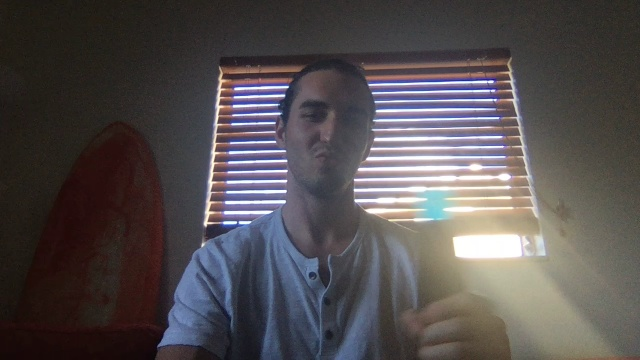wand: (422, 187, 452, 220)
